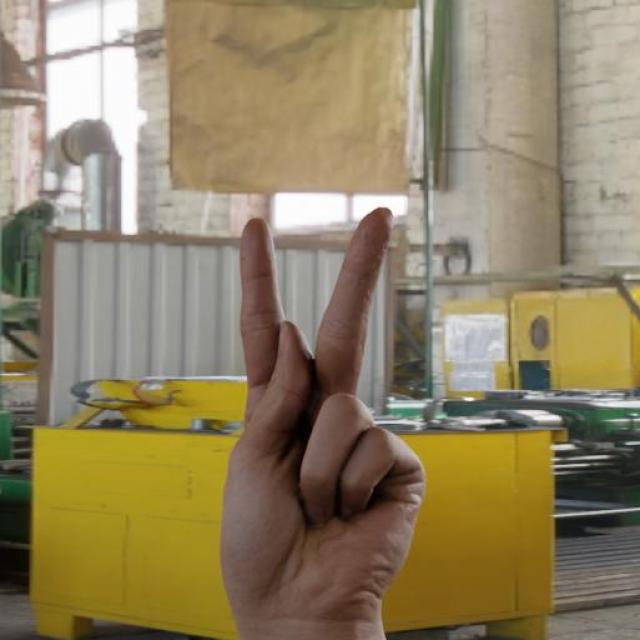K: (178, 185, 456, 620)
